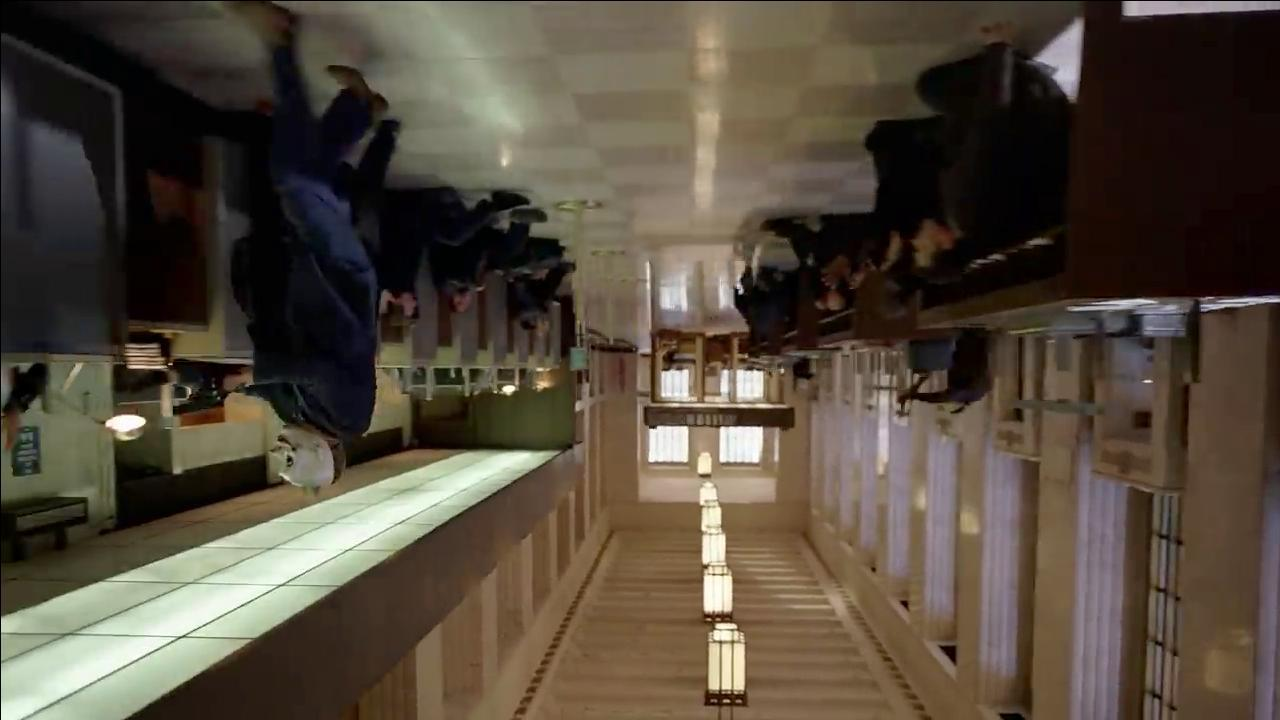gun: (169, 374, 222, 418)
